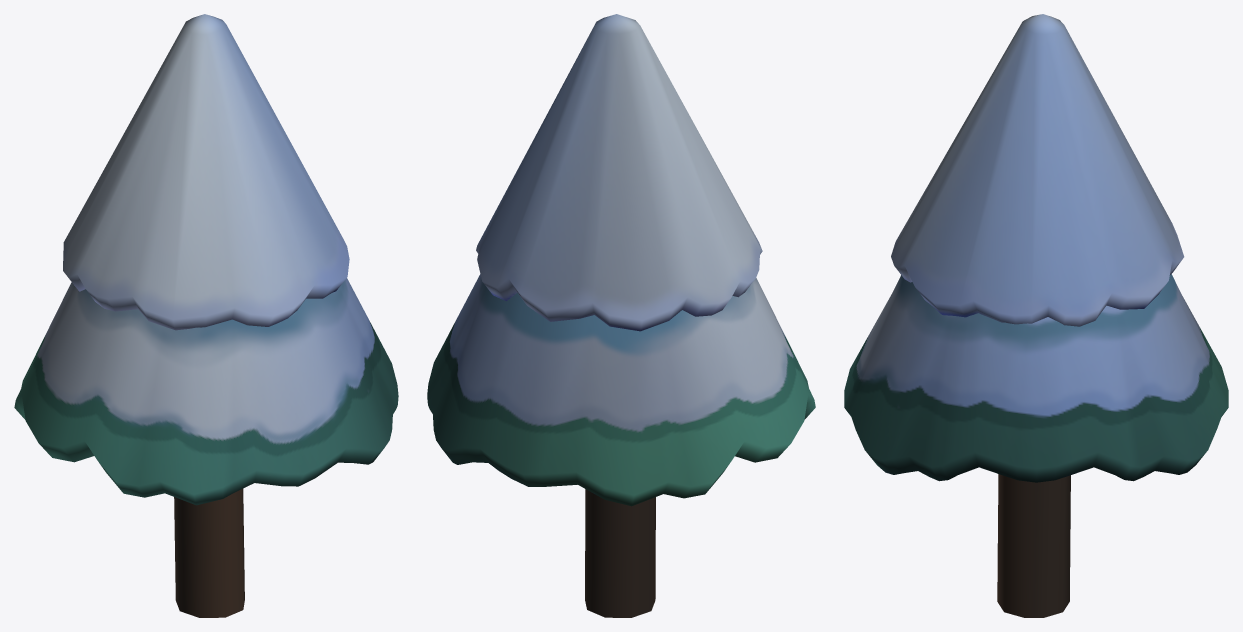
The model's file is RPGBattle_BridgeFloor10_tree3.fbx.
3 views of the same model, side by side, from view 1: azimuth 30°, elevation 25°; view 2: azimuth 150°, elevation 25°; view 3: azimuth 270°, elevation 25° (orthographic).
Visible parts, largest first — view 1: RPGBattle_BridgeFloor10_tree3; view 2: RPGBattle_BridgeFloor10_tree3; view 3: RPGBattle_BridgeFloor10_tree3.
Part boxes in pixels (box(x1,y1,x2,y2)): RPGBattle_BridgeFloor10_tree3: box(14, 14, 398, 617); RPGBattle_BridgeFloor10_tree3: box(427, 14, 815, 617); RPGBattle_BridgeFloor10_tree3: box(844, 14, 1228, 617).
Size of the model in its own units: 608 by 1023 by 605.
1 material, 1 textured.
